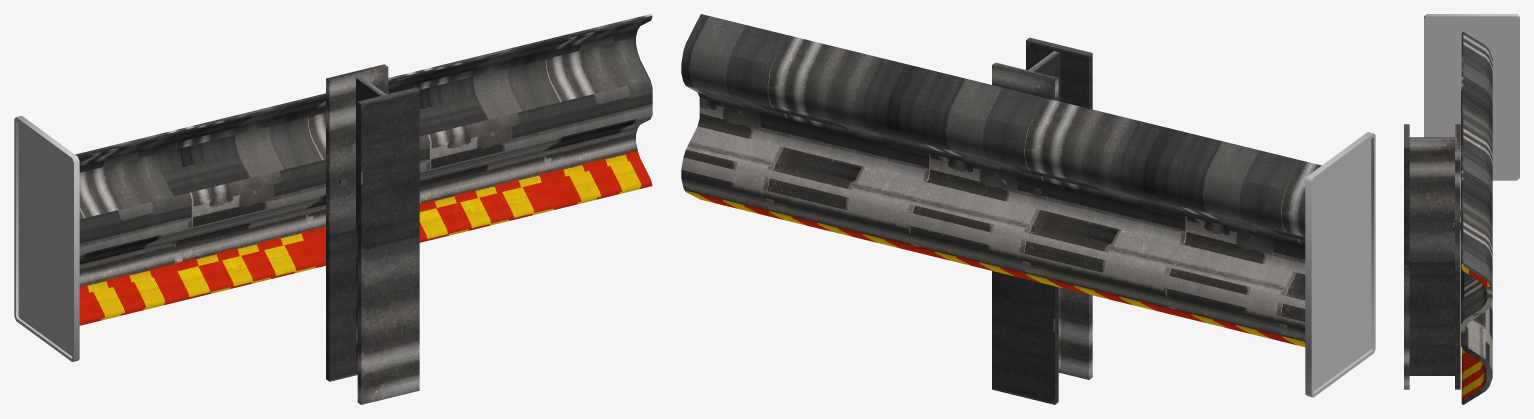
The model's file is Rail 8.FBX.
3 views of the same model, side by side, from view 1: azimuth 30°, elevation 25°; view 2: azimuth 150°, elevation 25°; view 3: azimuth 270°, elevation 25° (orthographic). The views are drawn at different scales.
Parts seen in each view (by area): view 1: guardrail_endsign_right_b; view 2: guardrail_endsign_right_b; view 3: guardrail_endsign_right_b.
Part boxes in pixels (bbox=[...]): guardrail_endsign_right_b: bbox=[14, 14, 652, 404]; guardrail_endsign_right_b: bbox=[681, 14, 1375, 404]; guardrail_endsign_right_b: bbox=[1404, 14, 1519, 404].
Size of the model in its own units: 211 by 102 by 43.64.
